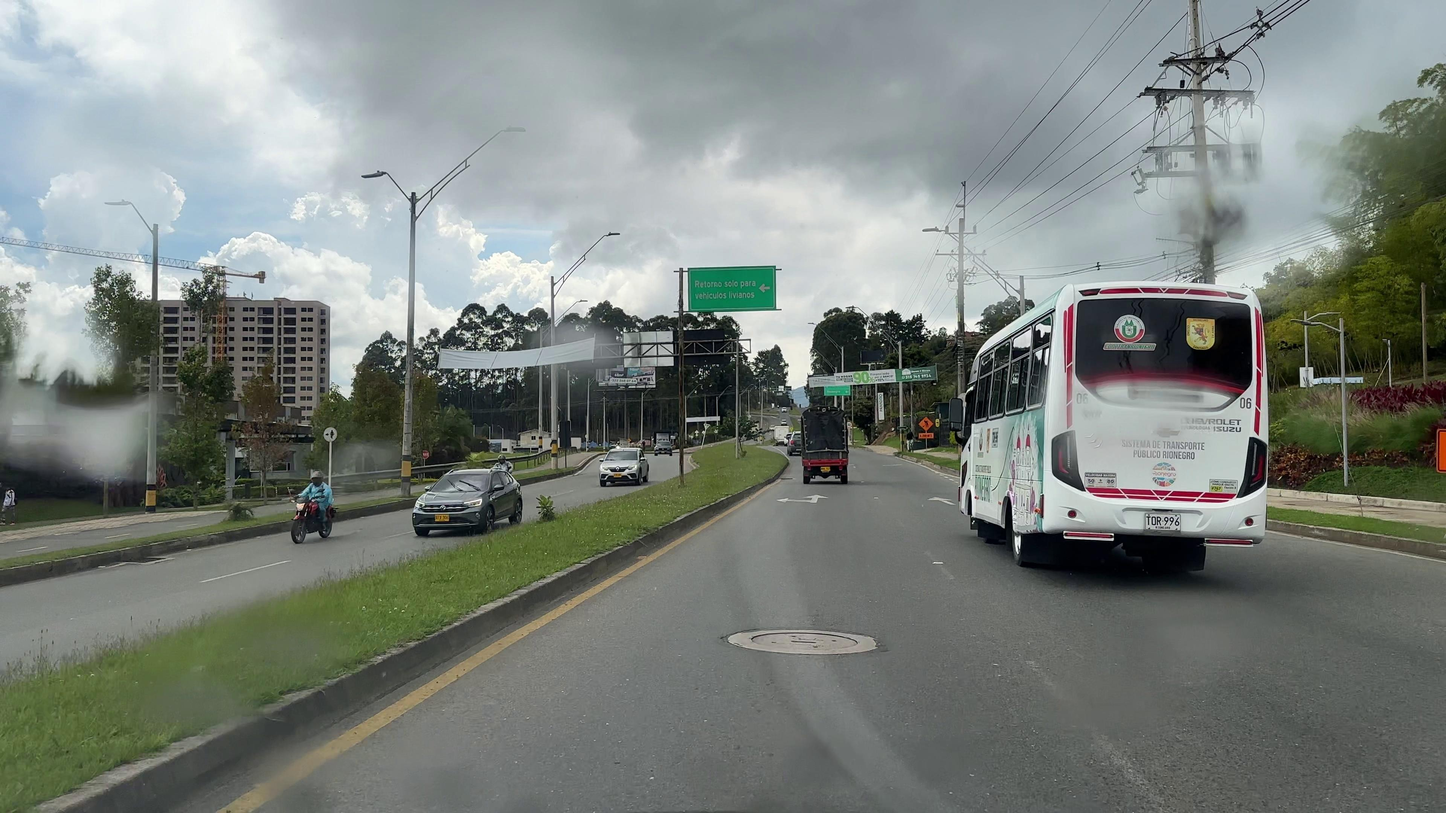registro: (751, 632, 858, 650)
